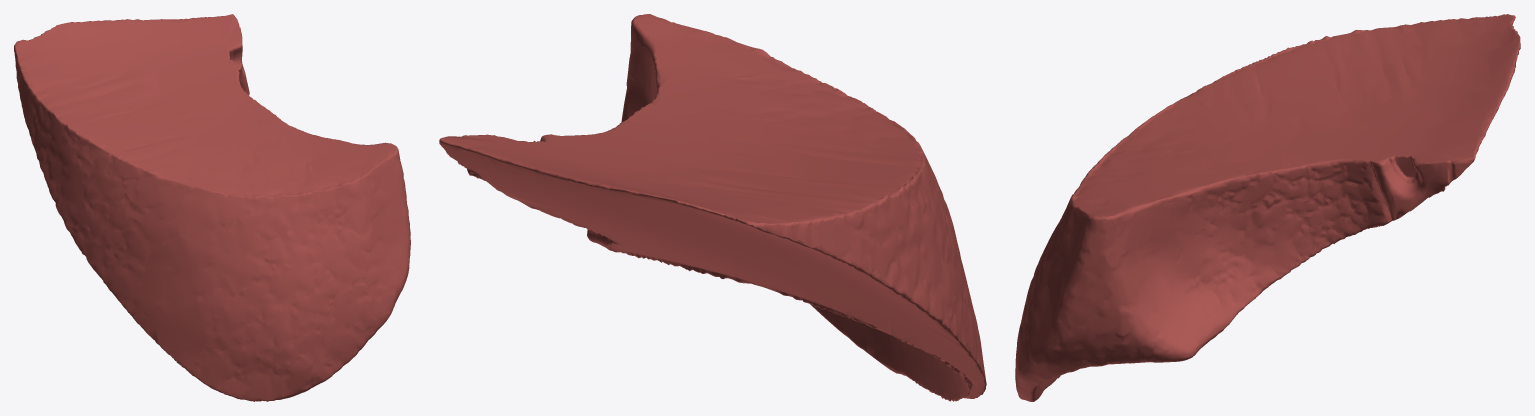
The model's file is FMA7383.glb.
3 renders of one model, left to right at view 1: azimuth 30°, elevation 25°; view 2: azimuth 150°, elevation 25°; view 3: azimuth 270°, elevation 25°, orthographic. The views are drawn at different scales.
Visible parts, largest first — view 1: FMA7383; view 2: FMA7383; view 3: FMA7383.
Part boxes in pixels (x1,y1,x2,y2): FMA7383: [14, 14, 410, 401]; FMA7383: [439, 14, 986, 401]; FMA7383: [1015, 14, 1520, 401].
Bounding box in the file's own units: 0.1157 × 0.1055 × 0.1462.
